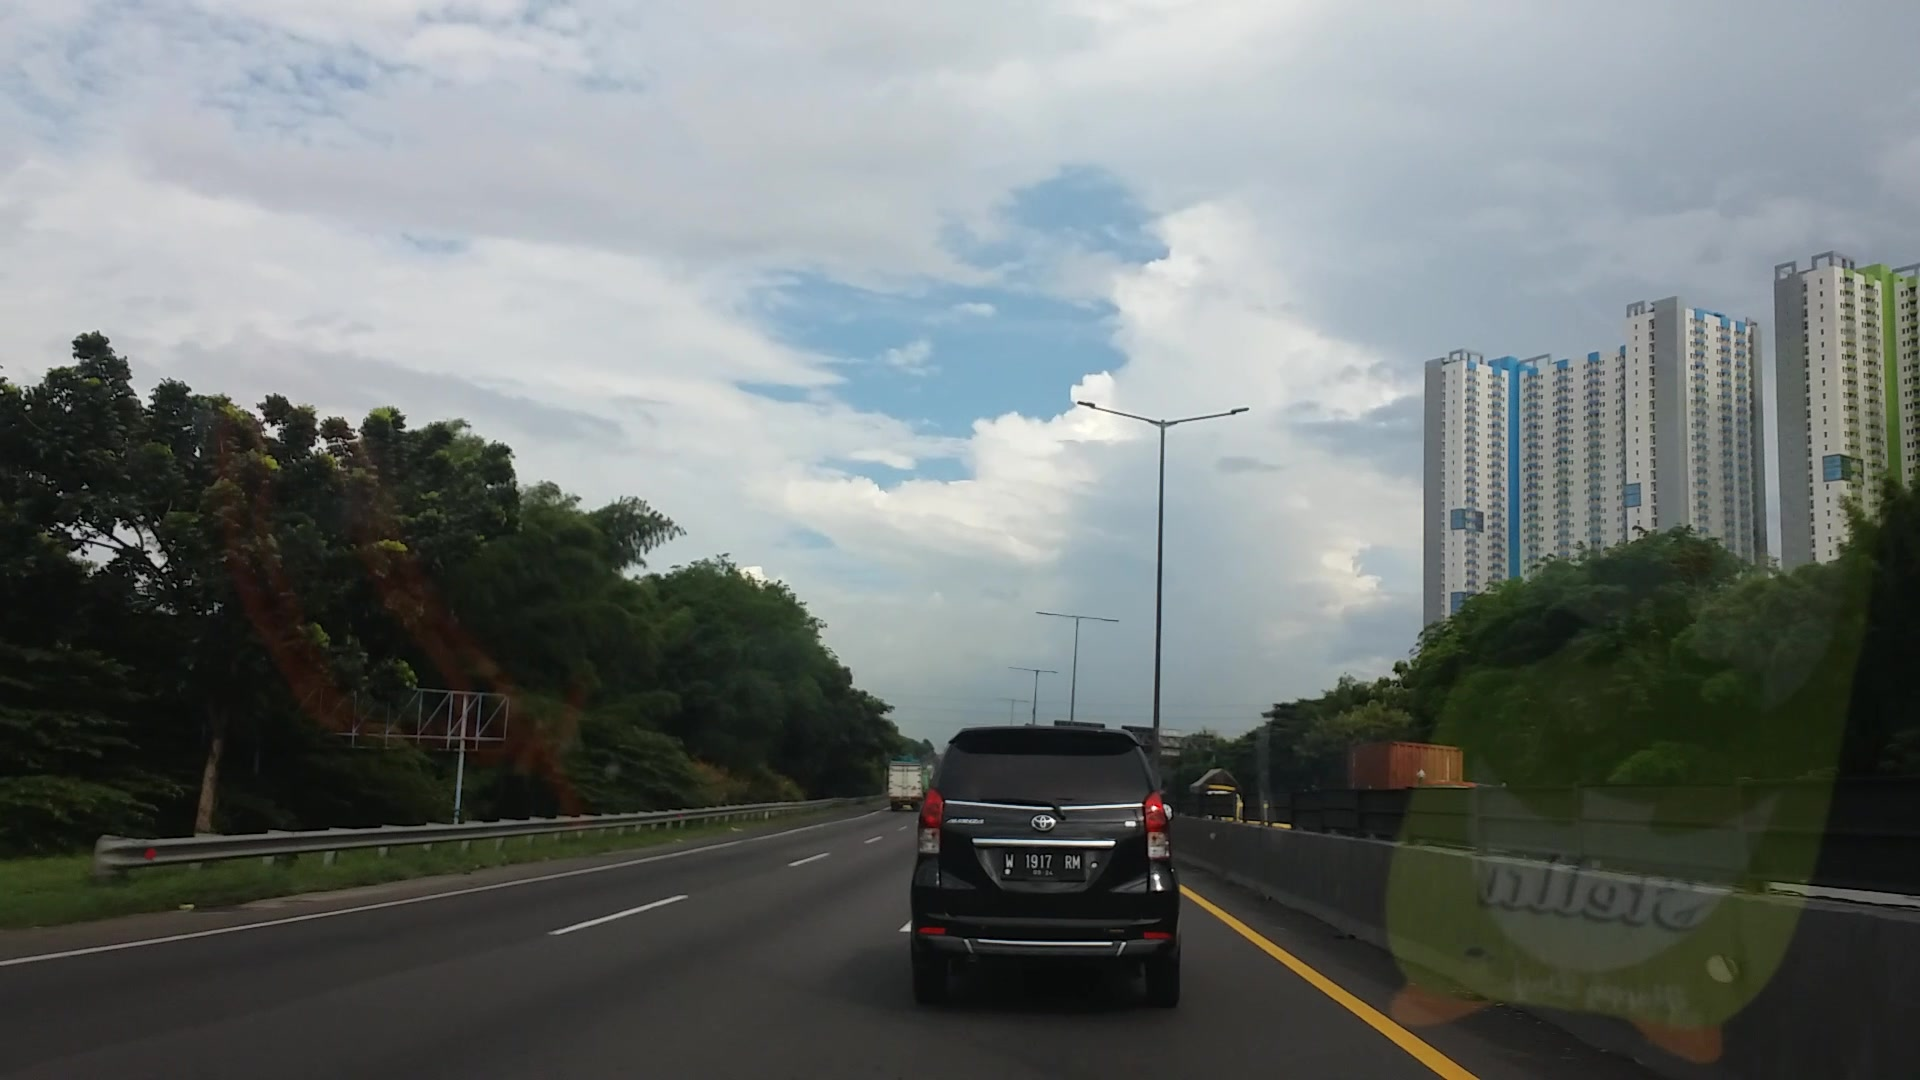plate_positive: (1001, 851, 1083, 878)
